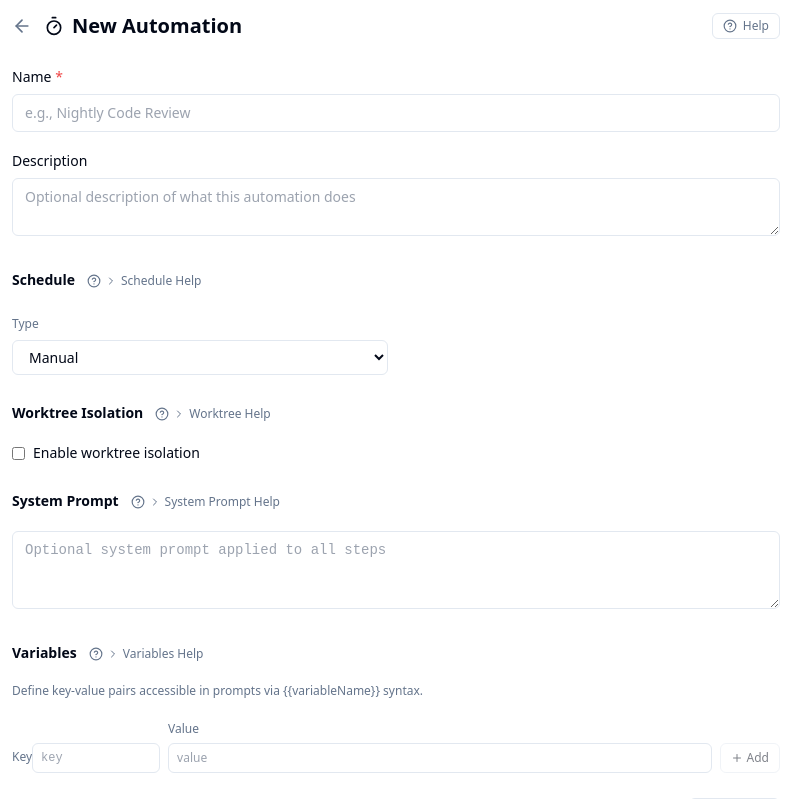
it: AutomationEditorPage › shows worktree configuration fields when worktree isolation is enabled
Expected: the field labelled "Branch" is not shown
Expected: the field labelled "Cleanup Policy" is not shown
Enable worktree isolation
Step 1. Click the checkbox labelled "Enable worktree isolation" → (18, 453), box [12,446,25,460]
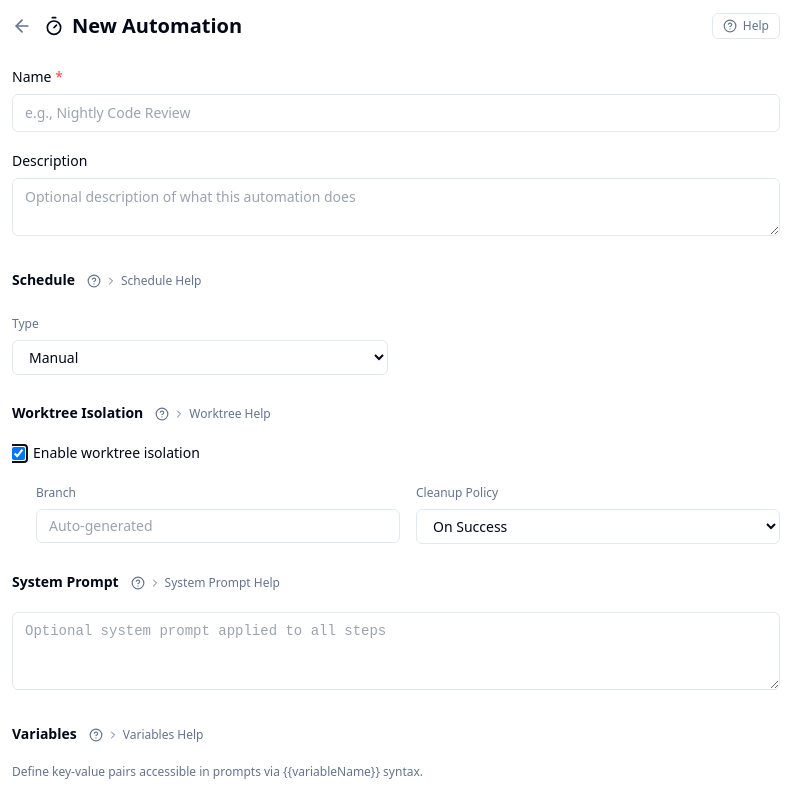
Now the field labelled "Branch" is shown, box [36,509,400,543]
Now the dropdown labelled "Cleanup Policy" is shown, box [416,509,780,544]
